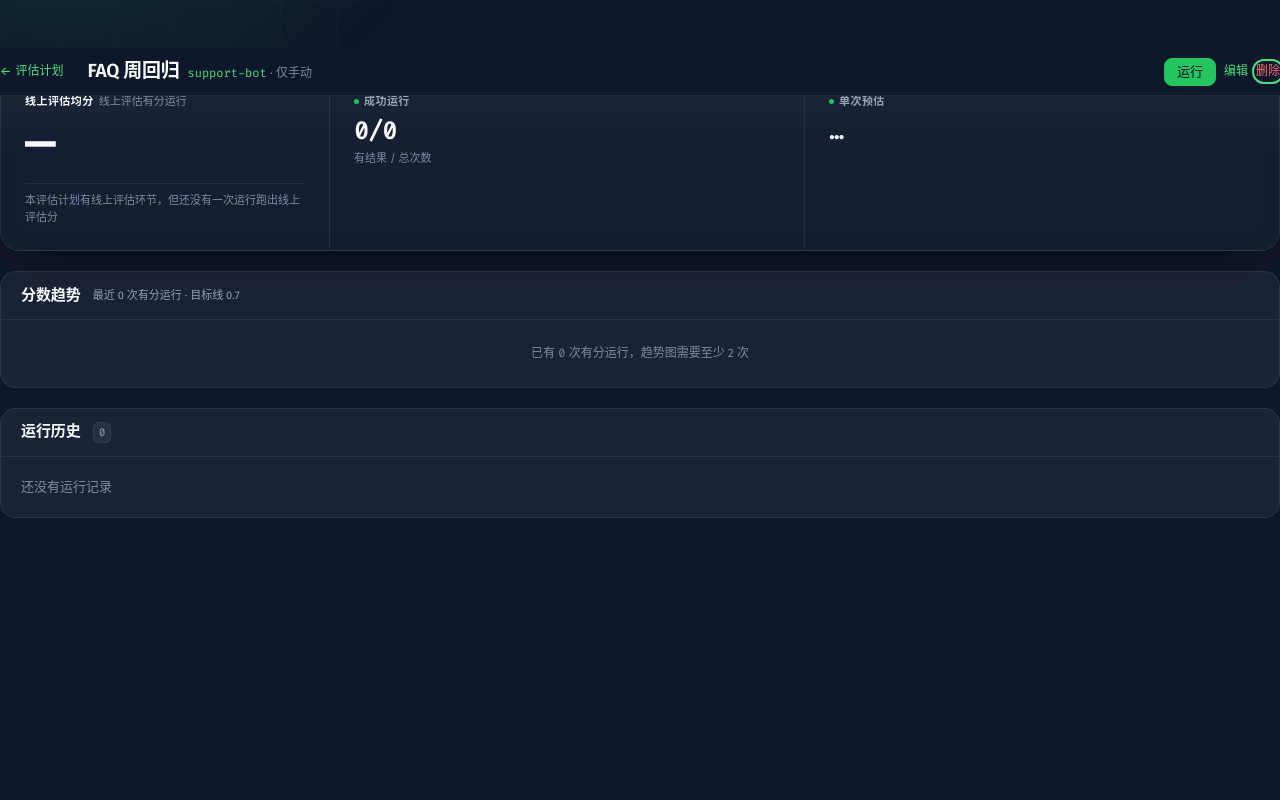
Test: PlanDetailPage 删除流程（ConfirmCard 替代 window.confirm） › Esc 取消：卡关闭、不发请求、焦点还原到删除按钮
The width and height of the screenshot is (1280, 800).
Expected: the text "FAQ 周回归" is shown, [88,59,180,82]
Click the button with test id "plan-delete": point(1268, 72) [1256,63,1279,80]
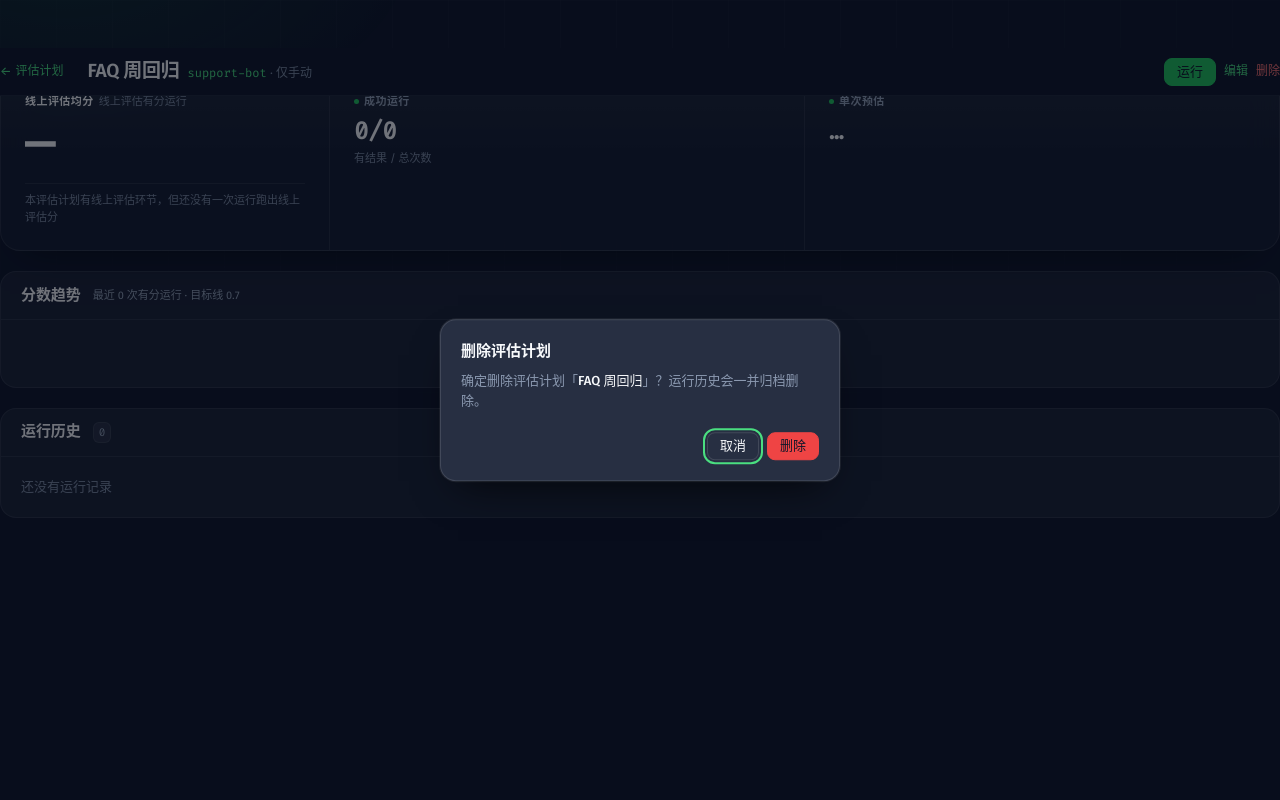
Press Escape
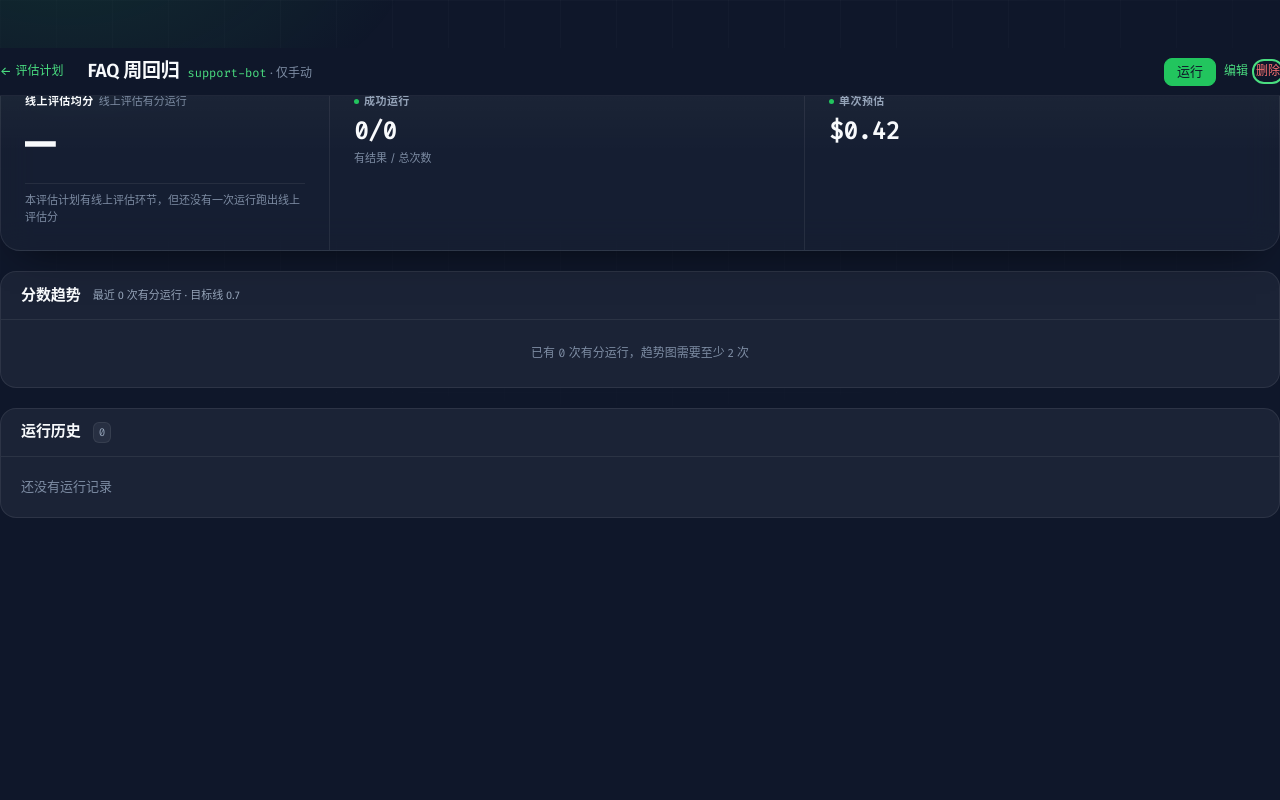
Expected: the dialog with test id "confirm-card" is gone
